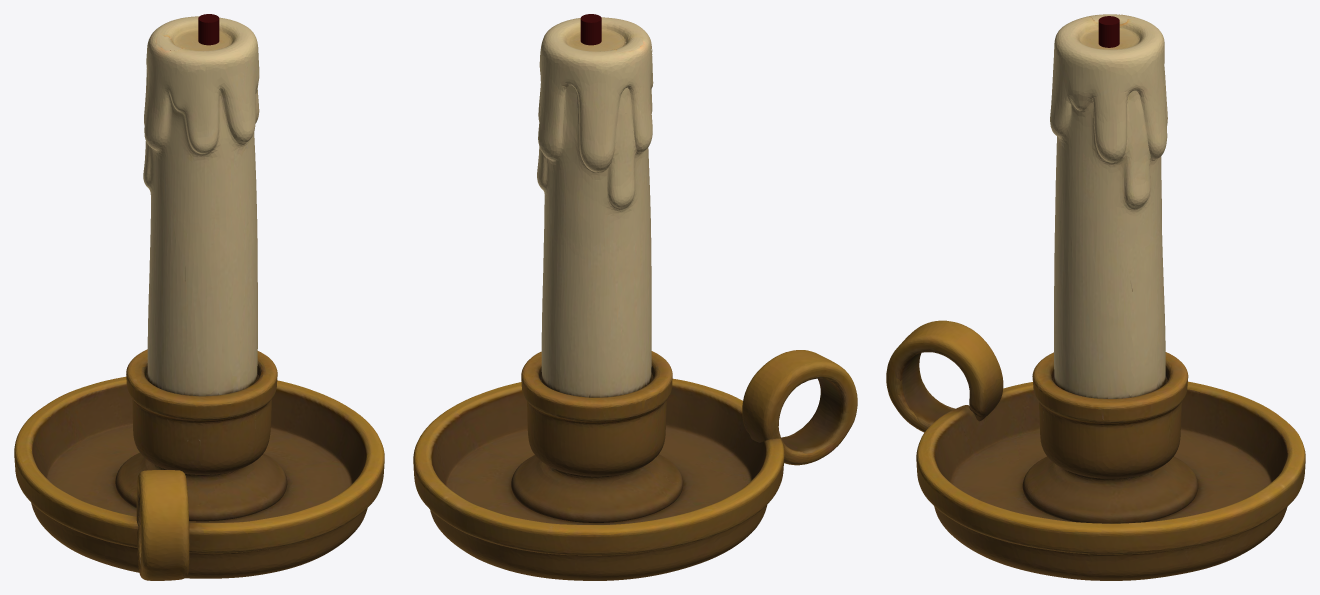
File: candle_5.glb
3 views of the same model, side by side, from view 1: azimuth 30°, elevation 25°; view 2: azimuth 150°, elevation 25°; view 3: azimuth 270°, elevation 25° (orthographic).
Visible parts, largest first — view 1: tripo_node_d504aa78-2d36-4d63-a000-d4e156e20fec, tripo_node_d504aa78-2d36-4d63-a000-d4e156e20fec.001, Cylinder.002; view 2: tripo_node_d504aa78-2d36-4d63-a000-d4e156e20fec, Cylinder.002, tripo_node_d504aa78-2d36-4d63-a000-d4e156e20fec.001; view 3: tripo_node_d504aa78-2d36-4d63-a000-d4e156e20fec, Cylinder.002.
Part boxes in pixels (left/top/right/bottom): tripo_node_d504aa78-2d36-4d63-a000-d4e156e20fec: left=14, top=16, right=384, bottom=580; tripo_node_d504aa78-2d36-4d63-a000-d4e156e20fec.001: left=147, top=34, right=205, bottom=78; Cylinder.002: left=198, top=14, right=219, bottom=45; tripo_node_d504aa78-2d36-4d63-a000-d4e156e20fec: left=413, top=17, right=857, bottom=580; Cylinder.002: left=580, top=14, right=601, bottom=45; tripo_node_d504aa78-2d36-4d63-a000-d4e156e20fec.001: left=596, top=33, right=652, bottom=74; tripo_node_d504aa78-2d36-4d63-a000-d4e156e20fec: left=886, top=14, right=1305, bottom=580; Cylinder.002: left=1098, top=16, right=1119, bottom=47.
Bounding box in the file's own units: 0.5633 × 0.8359 × 0.6351.
3 materials, 2 textured.
